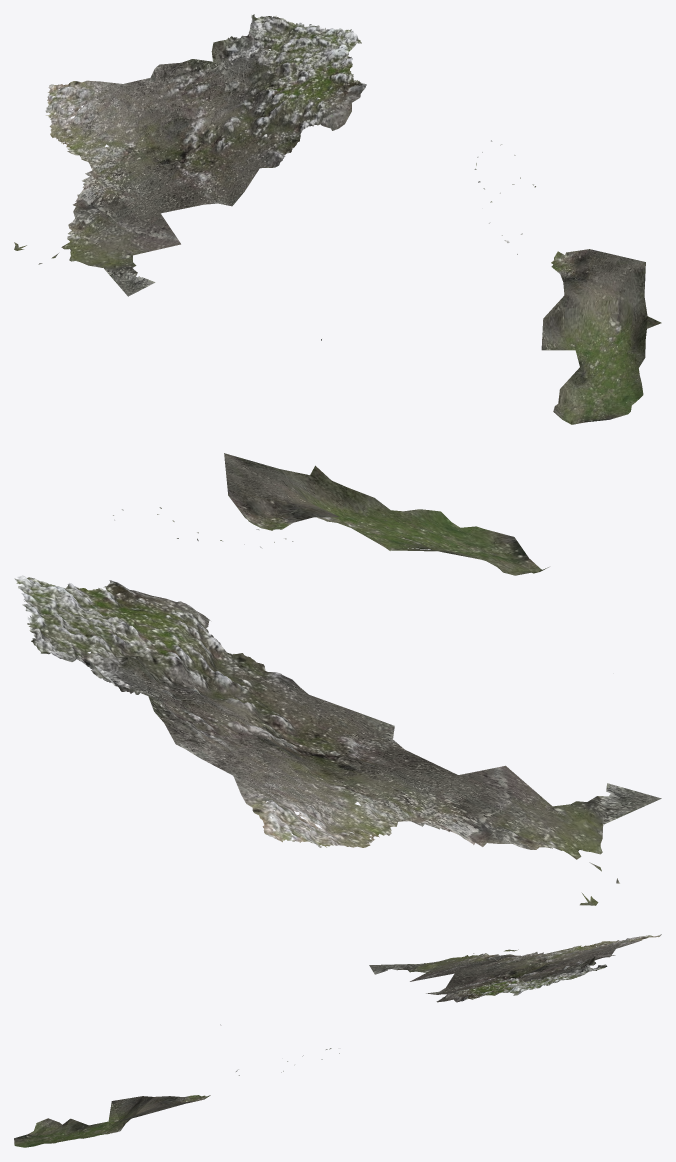
3 views of the same model, one above another, from view 1: azimuth 30°, elevation 25°; view 2: azimuth 150°, elevation 25°; view 3: azimuth 270°, elevation 25° (orthographic). The views are drawn at different scales.
Size of the model in its own units: 47.05 by 19.13 by 67.22.
1 material, 1 textured.
